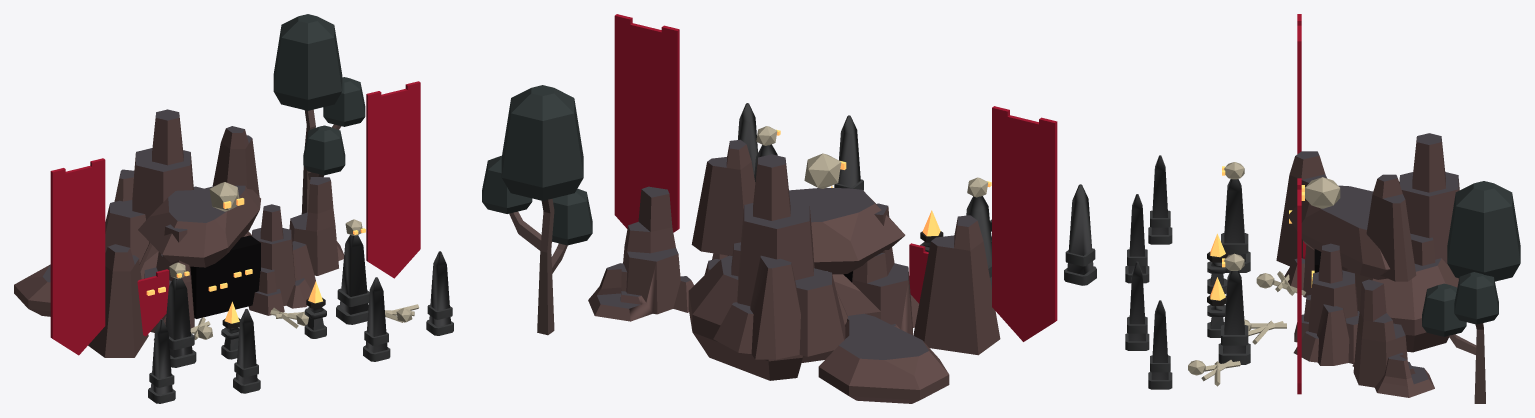
File: wolfden_l3.glb
The picture shows the model from 3 angles, left to right: view 1: azimuth 30°, elevation 25°; view 2: azimuth 150°, elevation 25°; view 3: azimuth 270°, elevation 25°; orthographic projection. The views are drawn at different scales.
Parts seen in each view (by area): view 1: wolfden_l3; view 2: wolfden_l3; view 3: wolfden_l3.
Boxes of the visible parts, left/top/right/bottom form: wolfden_l3: left=14, top=14, right=453, bottom=403; wolfden_l3: left=482, top=14, right=1096, bottom=403; wolfden_l3: left=1125, top=14, right=1520, bottom=403.
Bounding box in the file's own units: 7.9 × 3.93 × 6.39.
